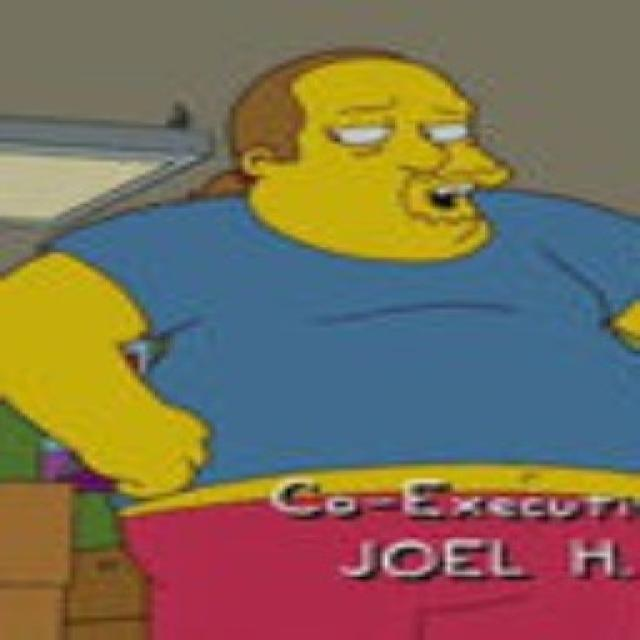Comic Book Guy: (218, 44, 518, 268)
